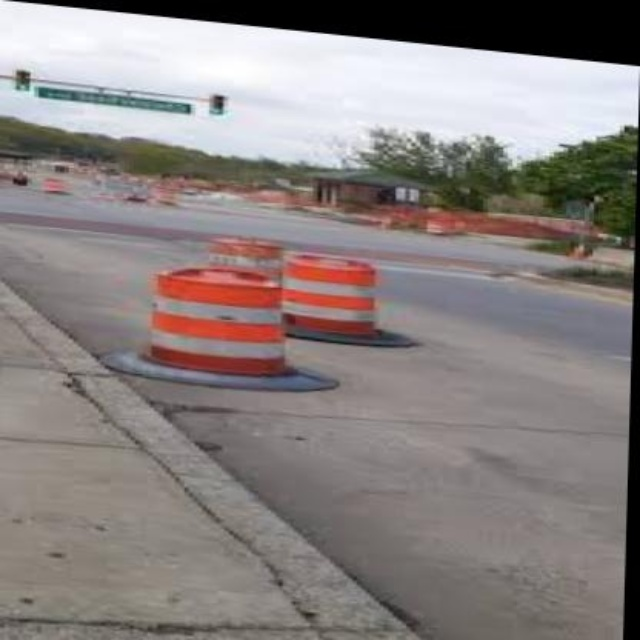obstacle: (130, 249, 298, 381), (278, 243, 428, 333)
